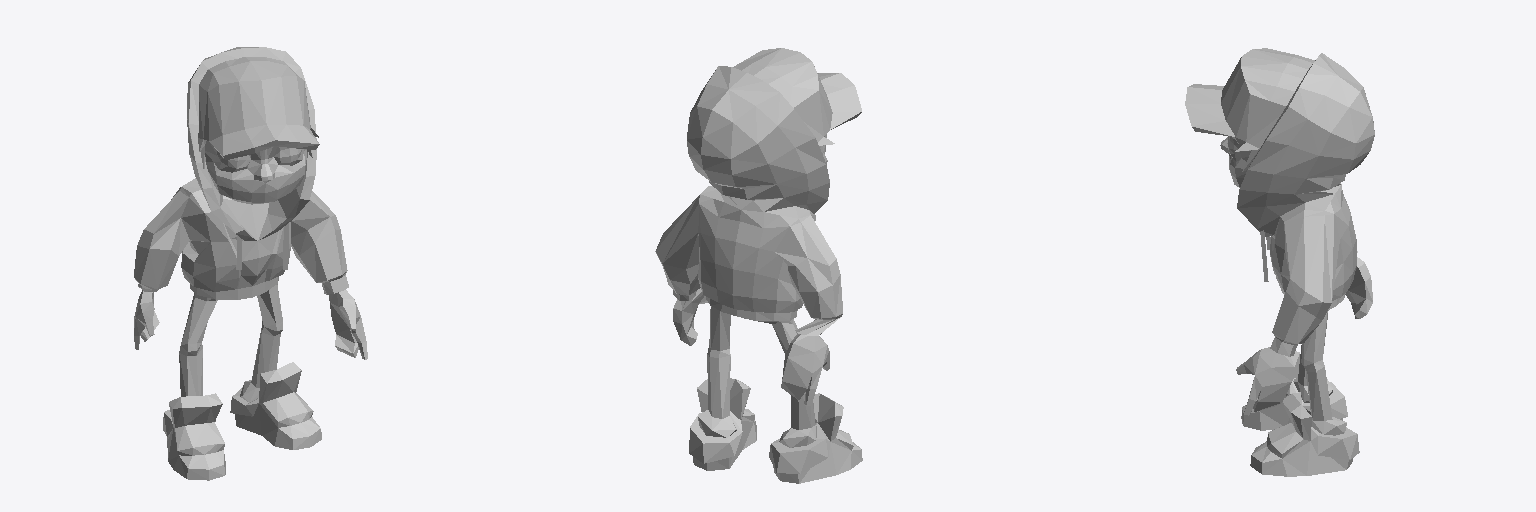
The model's file is magdy.obj.
3 views of the same model, side by side, from view 1: azimuth 30°, elevation 25°; view 2: azimuth 150°, elevation 25°; view 3: azimuth 270°, elevation 25° (orthographic).
Visible parts, largest first — view 1: Jake; view 2: Jake; view 3: Jake.
Boxes of the visible parts, box(x1,y1,x2,y2) form: Jake: box(134, 47, 367, 480); Jake: box(655, 48, 862, 483); Jake: box(1185, 48, 1374, 476).
Bounding box in the file's own units: 4.69 × 9.15 × 4.05.